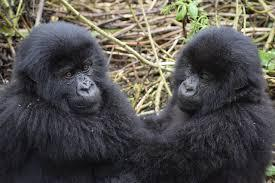goriile_montagne: (2, 20, 145, 183), (150, 13, 273, 183)
